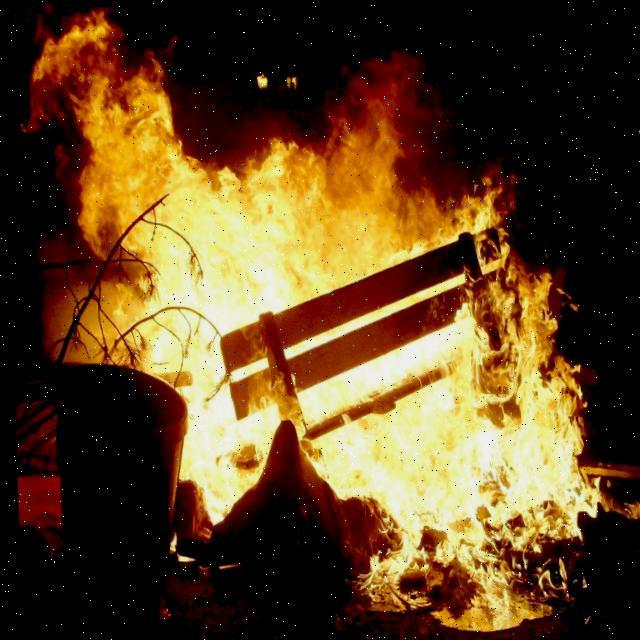Fire: (21, 23, 624, 628)
